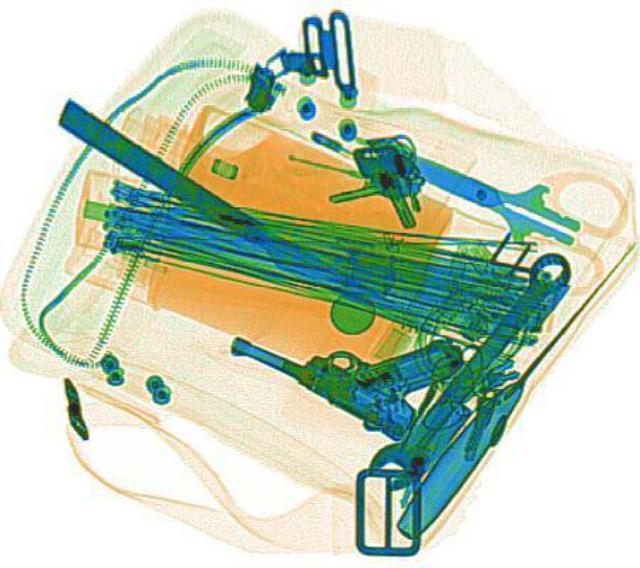Gun: (219, 255, 471, 440)
Knife: (49, 97, 393, 316), (386, 241, 636, 539), (362, 113, 592, 260)
Wrench: (354, 243, 588, 497)
